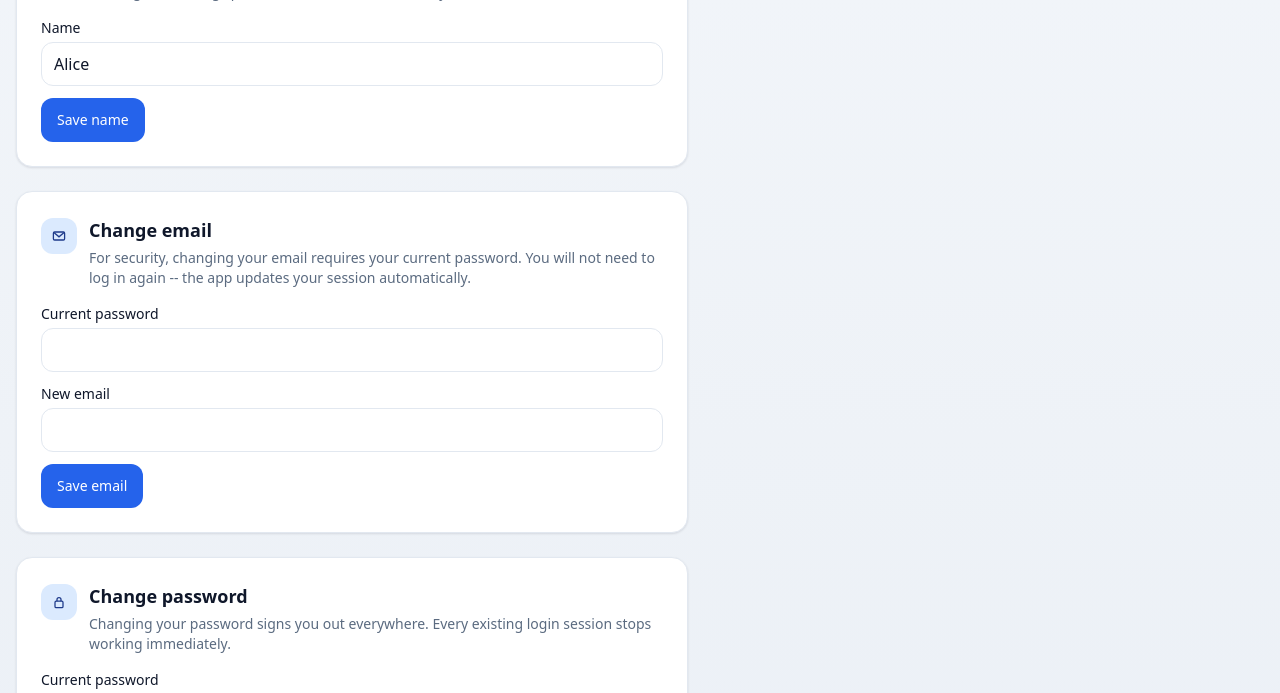
Test case: ProfilePage › replaces the stored token and email after a successful email change
(page scrolled)
Type "correct-password" into the password field labelled "Current password" below "Change email" at [352, 350], box [41, 328, 663, 372]
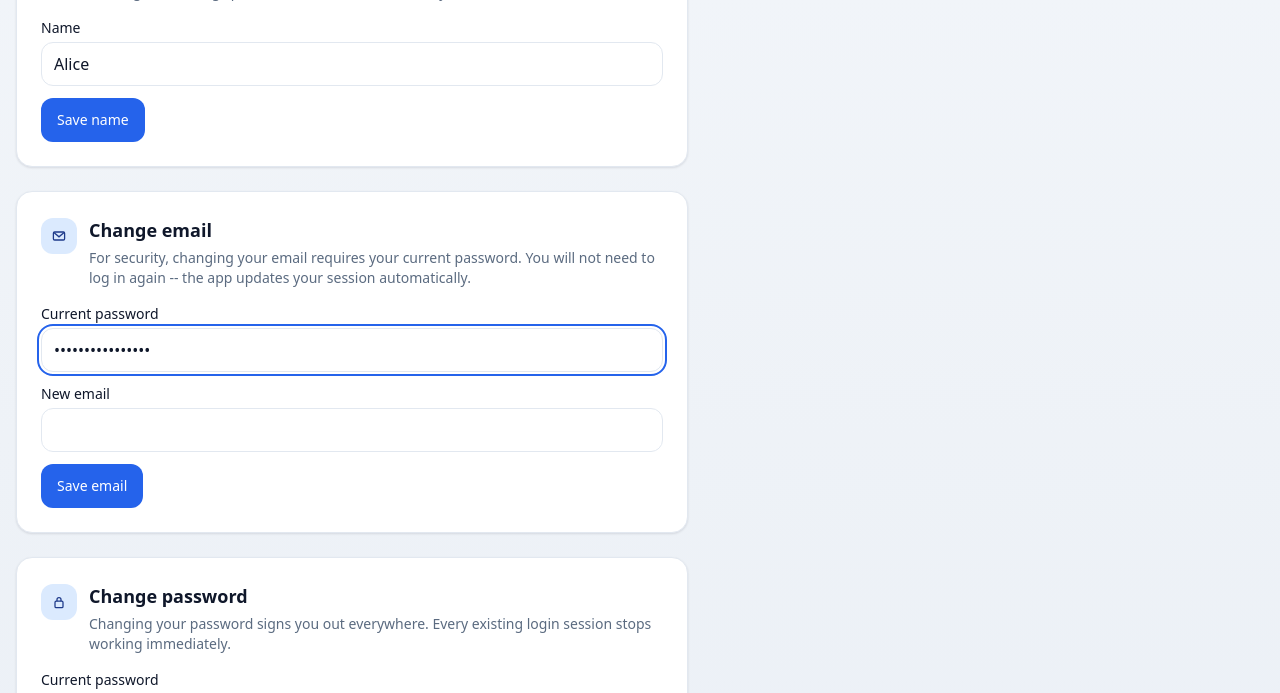
Type "new@example.com" into the field labelled "New email" at [352, 430], box [41, 408, 663, 452]
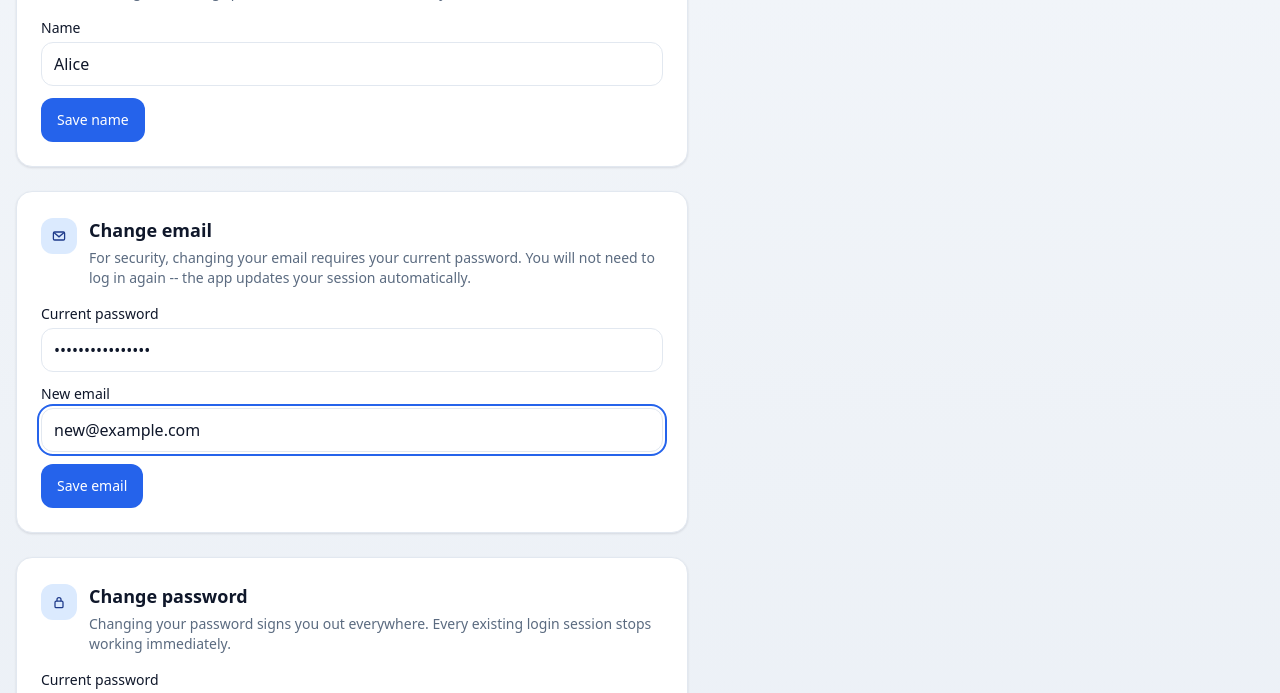
Click the button "Save email" at [92, 486], box [41, 464, 143, 508]
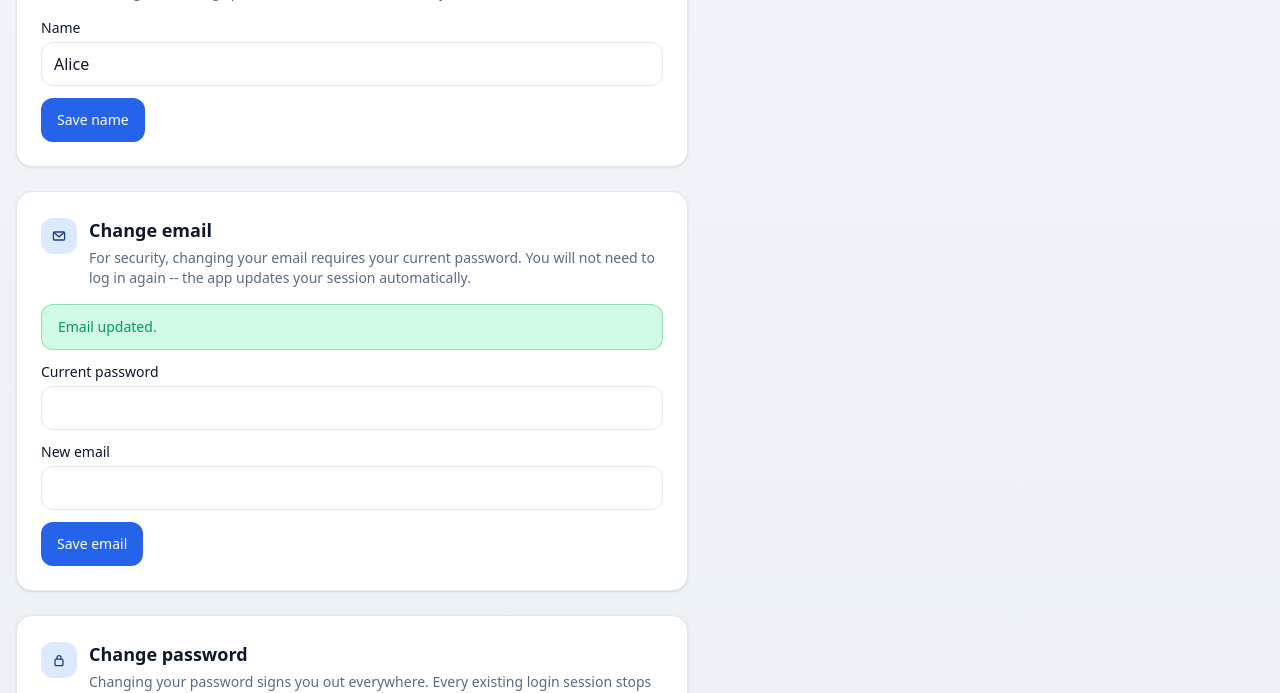
Result: the text "Email updated." is shown at [41, 304, 663, 350]
